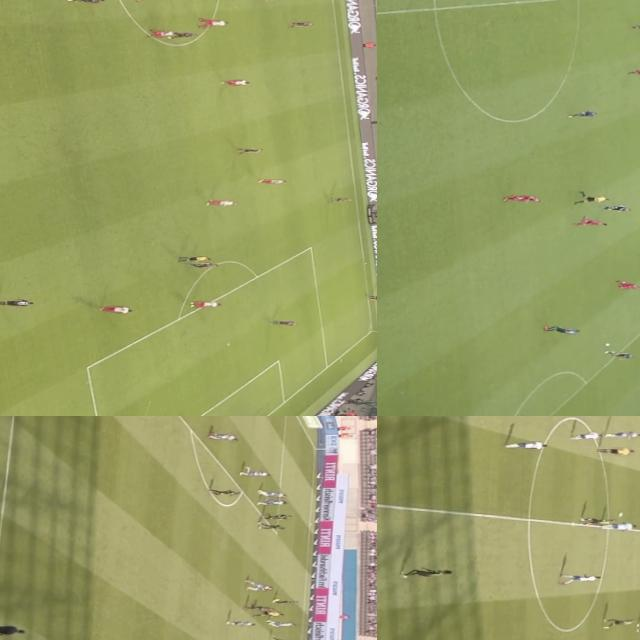ball: (600, 339, 618, 346), (615, 510, 625, 518)
player: (398, 567, 456, 576), (560, 572, 604, 583), (572, 216, 610, 228), (544, 322, 584, 333), (499, 193, 544, 202), (564, 108, 600, 119), (504, 439, 548, 448), (186, 297, 220, 308), (605, 202, 634, 214), (163, 29, 201, 38), (603, 521, 640, 530), (603, 617, 639, 626), (0, 297, 39, 305), (218, 76, 252, 85), (241, 467, 275, 476), (572, 430, 602, 440), (583, 516, 618, 524), (209, 431, 240, 440), (244, 602, 275, 611), (615, 279, 640, 290), (200, 18, 230, 27), (207, 197, 237, 206), (271, 317, 301, 326), (605, 349, 635, 358), (261, 512, 292, 520), (271, 596, 302, 604), (258, 488, 288, 496), (254, 175, 288, 182), (606, 430, 640, 437), (148, 29, 180, 36), (258, 498, 290, 505), (260, 522, 288, 530), (244, 580, 272, 588), (99, 304, 135, 310), (228, 619, 258, 626), (187, 262, 221, 268), (210, 488, 242, 494), (234, 146, 264, 152), (67, 0, 111, 4), (288, 20, 316, 26), (268, 635, 296, 640), (270, 621, 298, 625), (331, 196, 356, 200), (629, 67, 640, 74), (630, 22, 640, 29)
